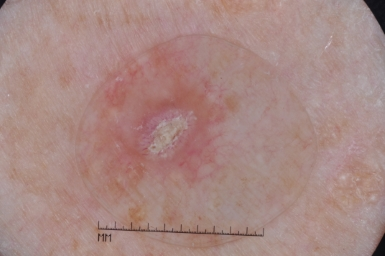seborrheic keratosis: (89, 63, 230, 191)
